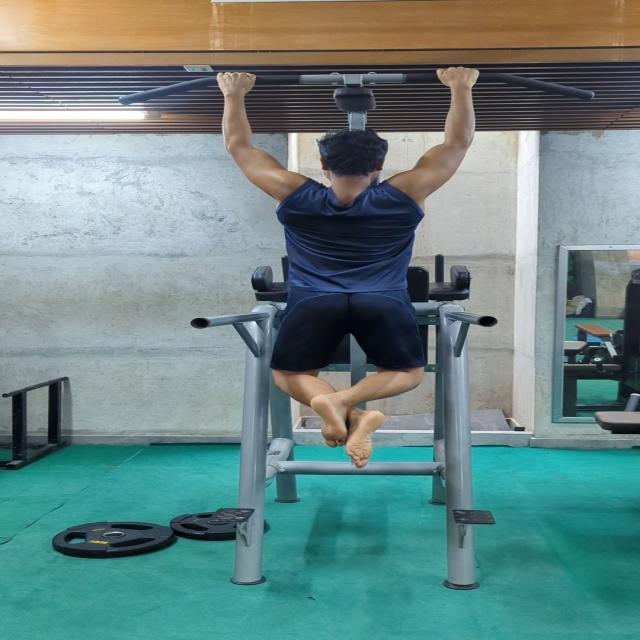Normal_PullUps: (213, 61, 482, 470)
